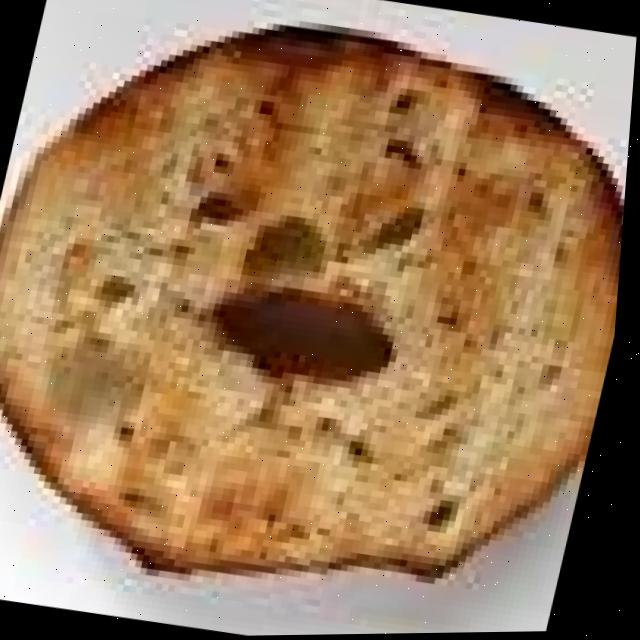Bagel: (0, 28, 627, 573)
